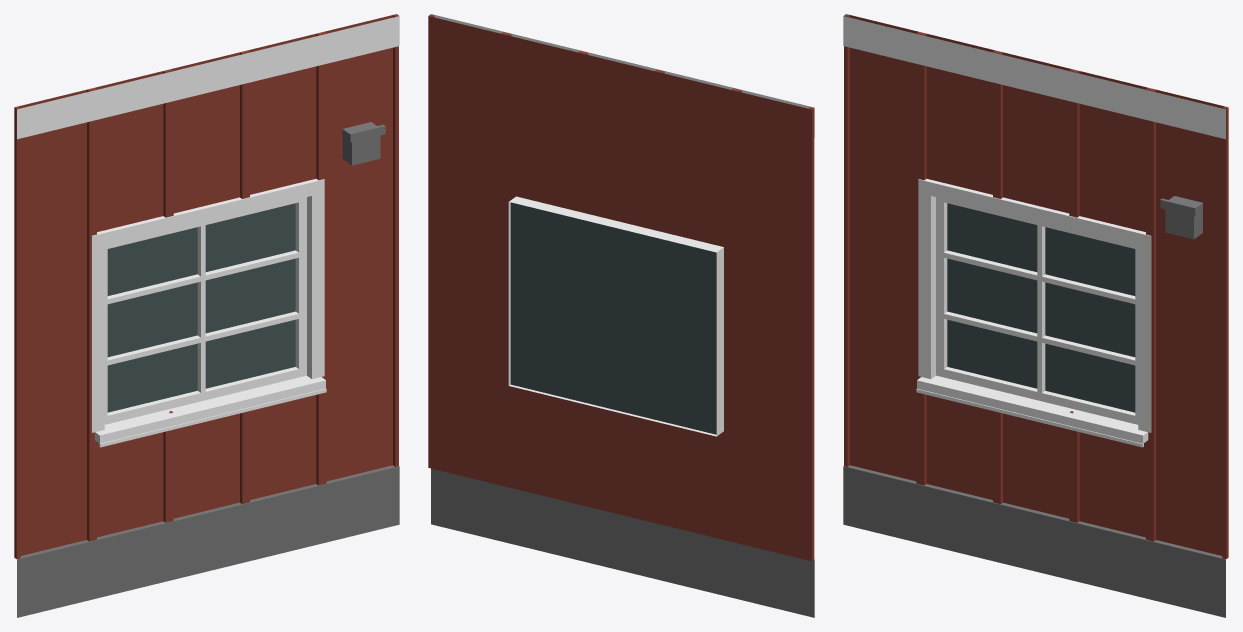
The model's file is base-w3_close.fbx.
3 renders of one model, left to right at view 1: azimuth 30°, elevation 25°; view 2: azimuth 150°, elevation 25°; view 3: azimuth 330°, elevation 25°, orthographic.
Visible parts, largest first — view 1: a2015/600/base-w3_close; view 2: a2015/600/base-w3_close; view 3: a2015/600/base-w3_close.
Boxes of the visible parts, x1=… form: a2015/600/base-w3_close: x1=14, y1=14, x2=399, y2=617; a2015/600/base-w3_close: x1=428, y1=14, x2=814, y2=617; a2015/600/base-w3_close: x1=843, y1=14, x2=1228, y2=617.
Bounding box in the file's own units: 2.4 × 3.05 × 0.2.
